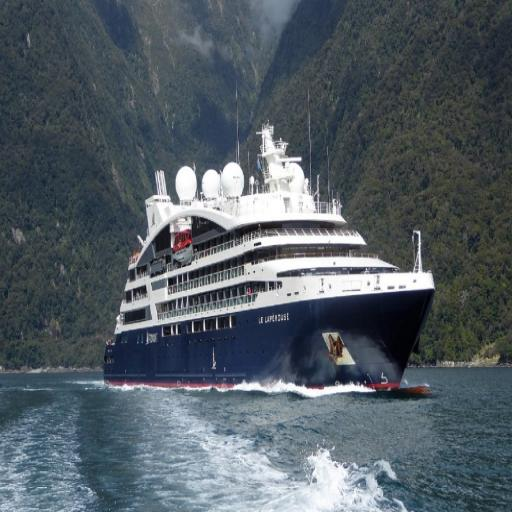cruises: (102, 111, 438, 399)
